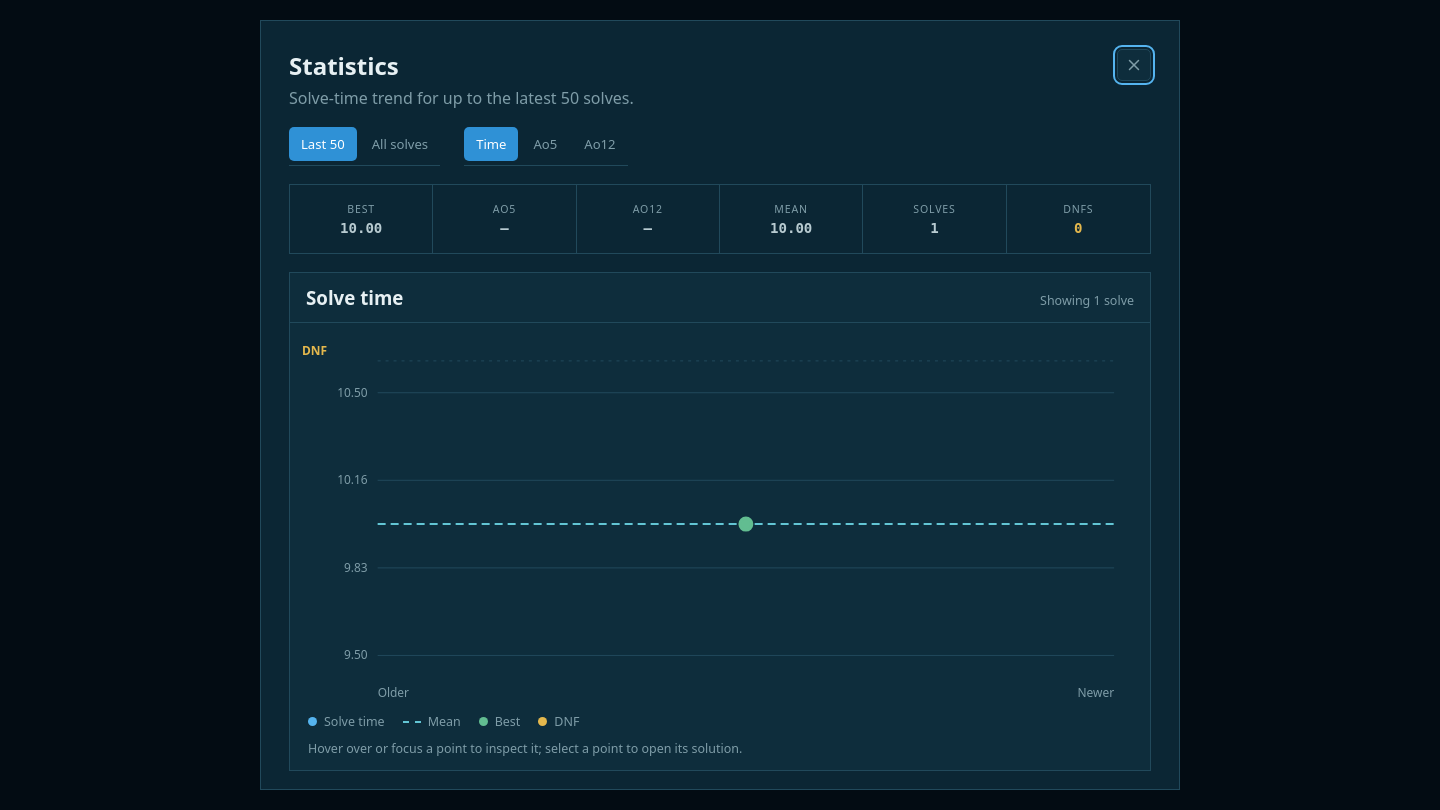
Scenario: StatisticsModal › shows loading and retryable errors while All solves pages are being fetched
The width and height of the screenshot is (1440, 810).
Check: the button "Solve 3:" is shown, box 740,518 -> 752,530
Click the button "All solves".
click(400, 144)  # box 360,127 -> 440,161
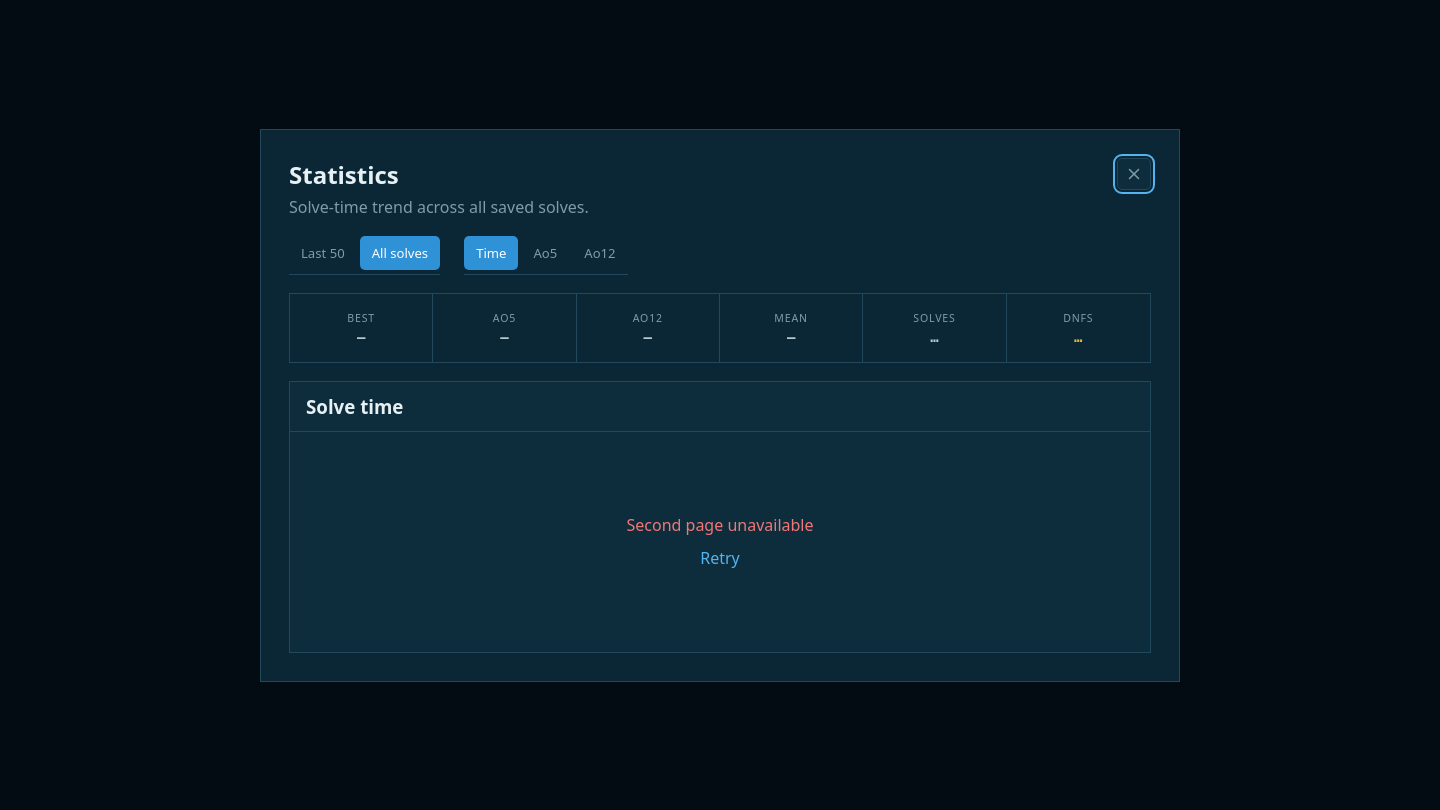
Check: the text "Loading all solves…" is shown, box 626,514 -> 814,570
Check: the message shows "Second page unavailable", box 626,514 -> 814,536
Click the button "Retry".
click(720, 558)  # box 694,546 -> 746,570
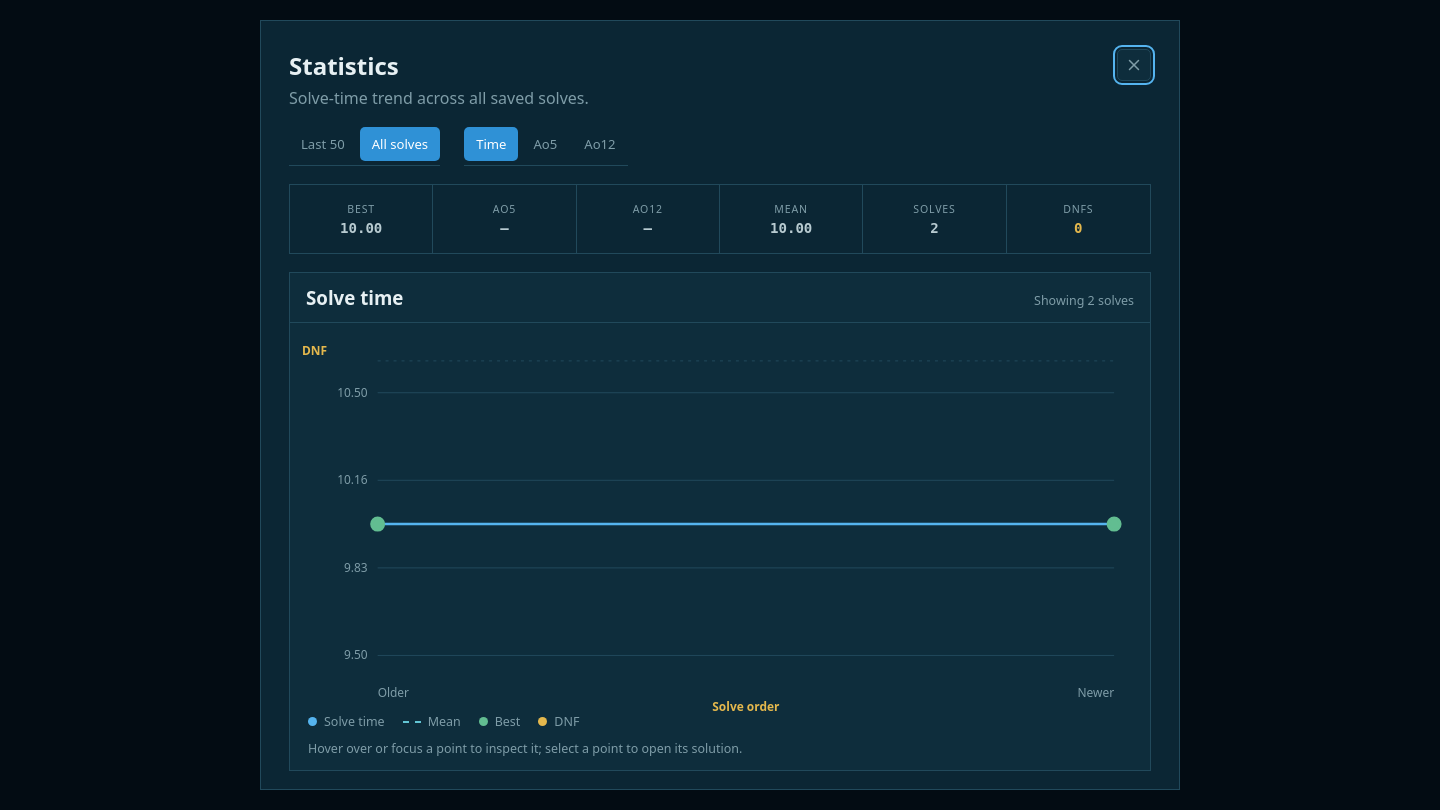
Check: the text "Showing 2 solves" is shown, box 1034,292 -> 1134,309
